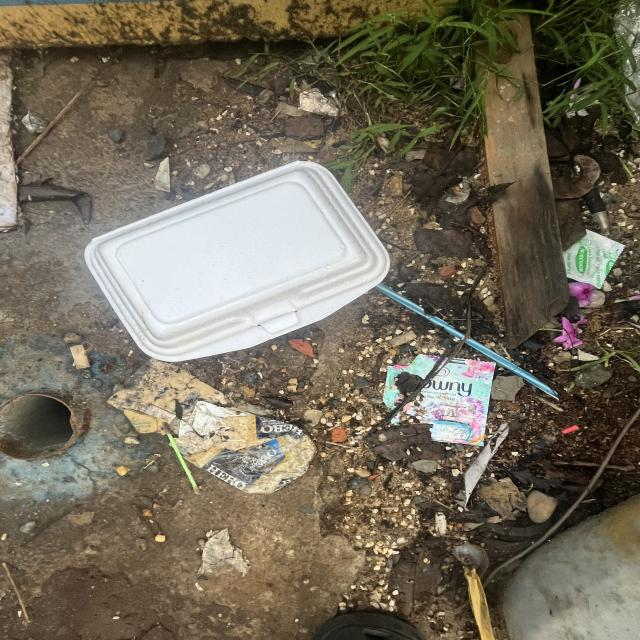drinking straw: (373, 283, 560, 401)
foam box: (83, 159, 391, 363)
packet: (381, 353, 497, 448), (563, 228, 626, 290)
